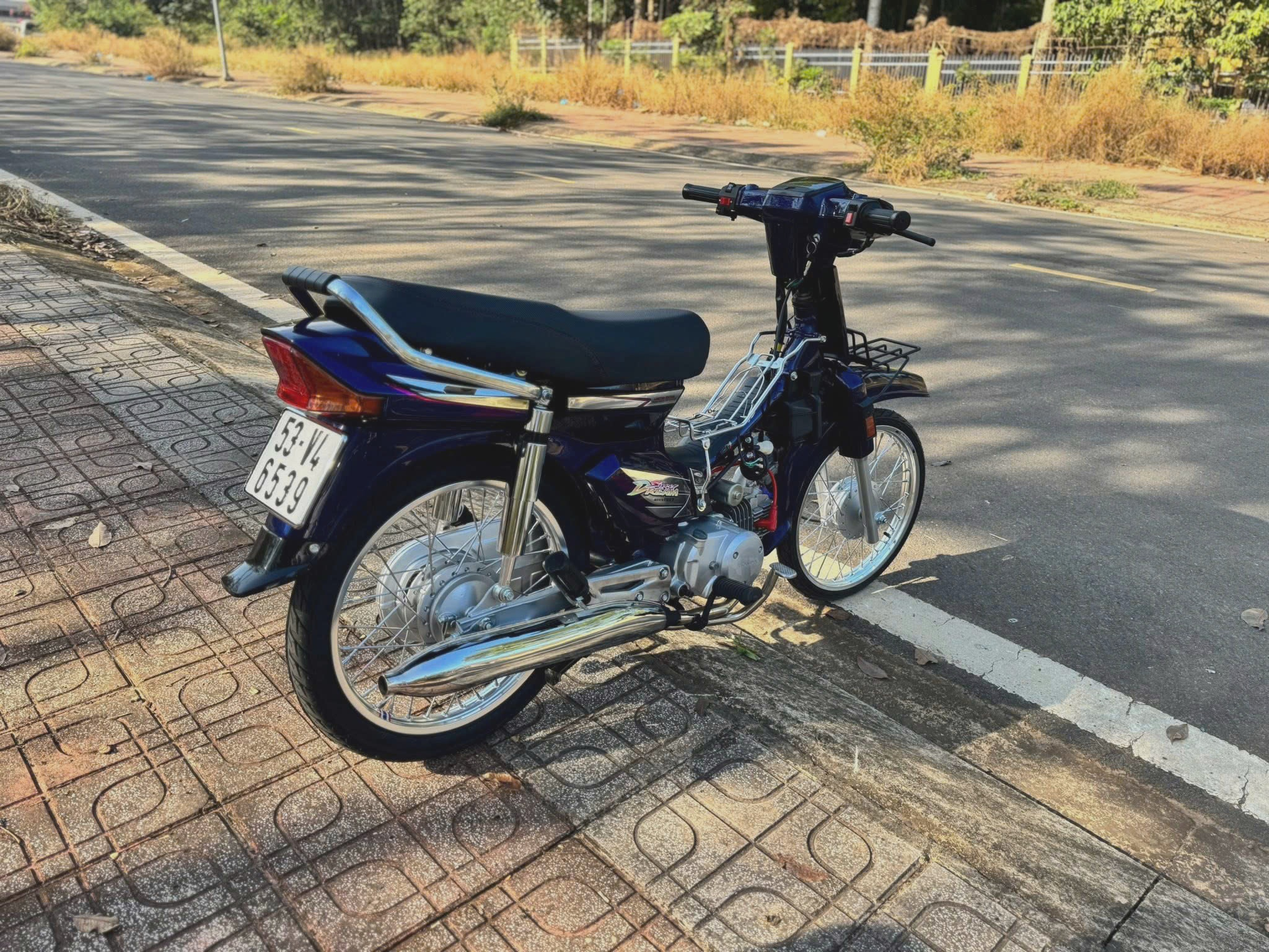Bien-so: (229, 450, 352, 575)
